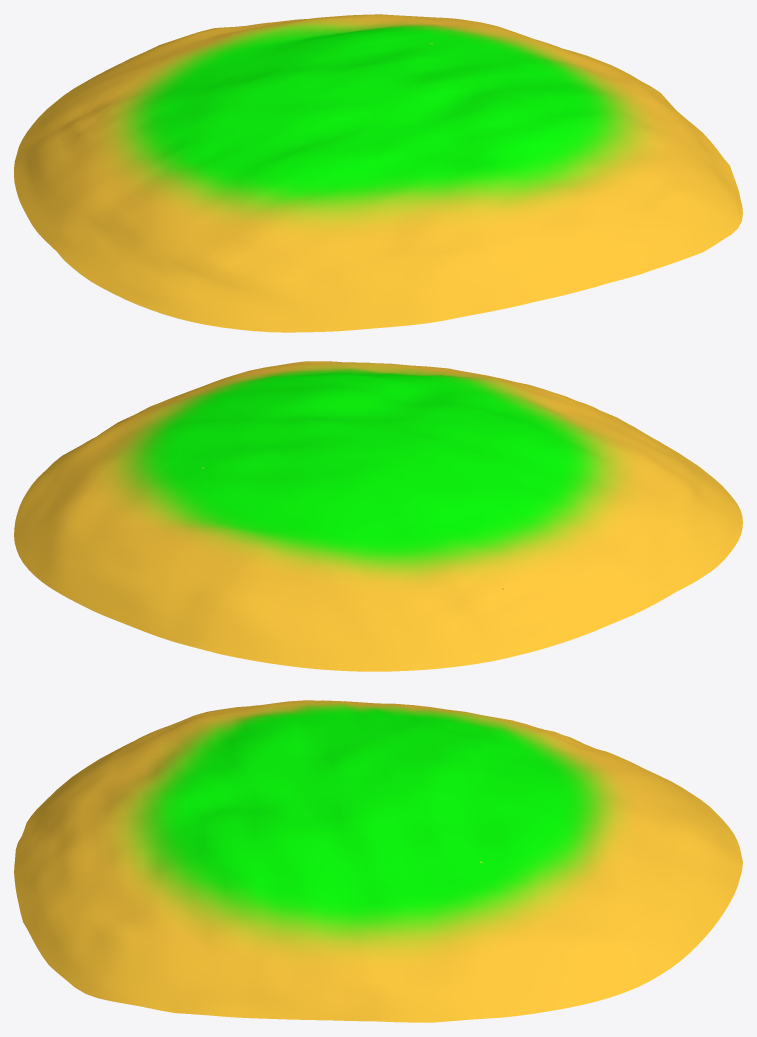
The model's file is island.fbx.
The picture shows the model from 3 angles, top to bottom: view 1: azimuth 30°, elevation 25°; view 2: azimuth 150°, elevation 25°; view 3: azimuth 270°, elevation 25°; orthographic projection. The views are drawn at different scales.
Visible parts, largest first — view 1: Куб; view 2: Куб; view 3: Куб.
Boxes of the visible parts, bbox=[...] form: Куб: bbox=[14, 14, 742, 332]; Куб: bbox=[14, 361, 742, 671]; Куб: bbox=[14, 700, 742, 1022].
Bounding box in the file's own units: 167 × 23.51 × 165.
